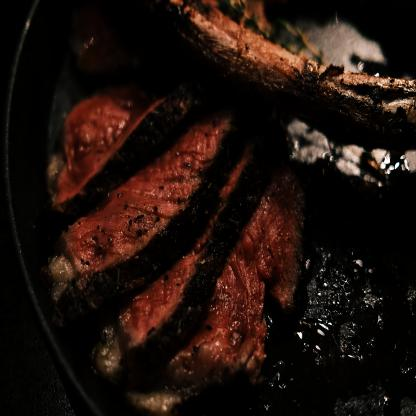Carne: (120, 130, 264, 343), (178, 171, 313, 391), (70, 104, 226, 277), (35, 92, 206, 185)
